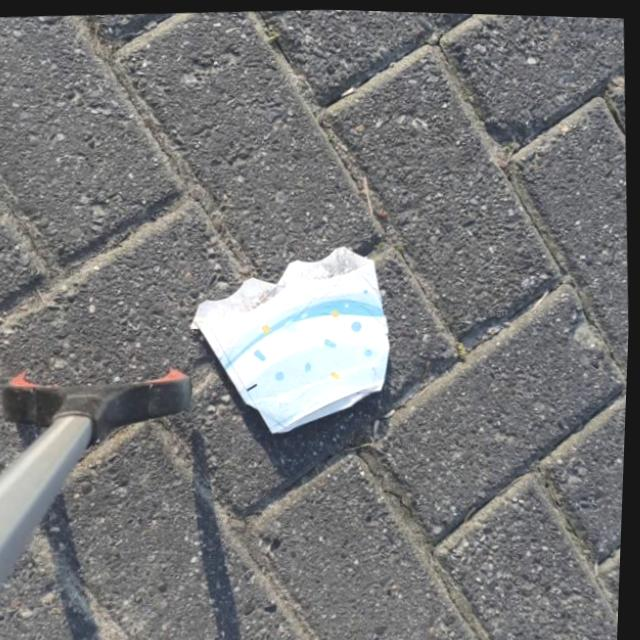Paper: (180, 235, 402, 441)
